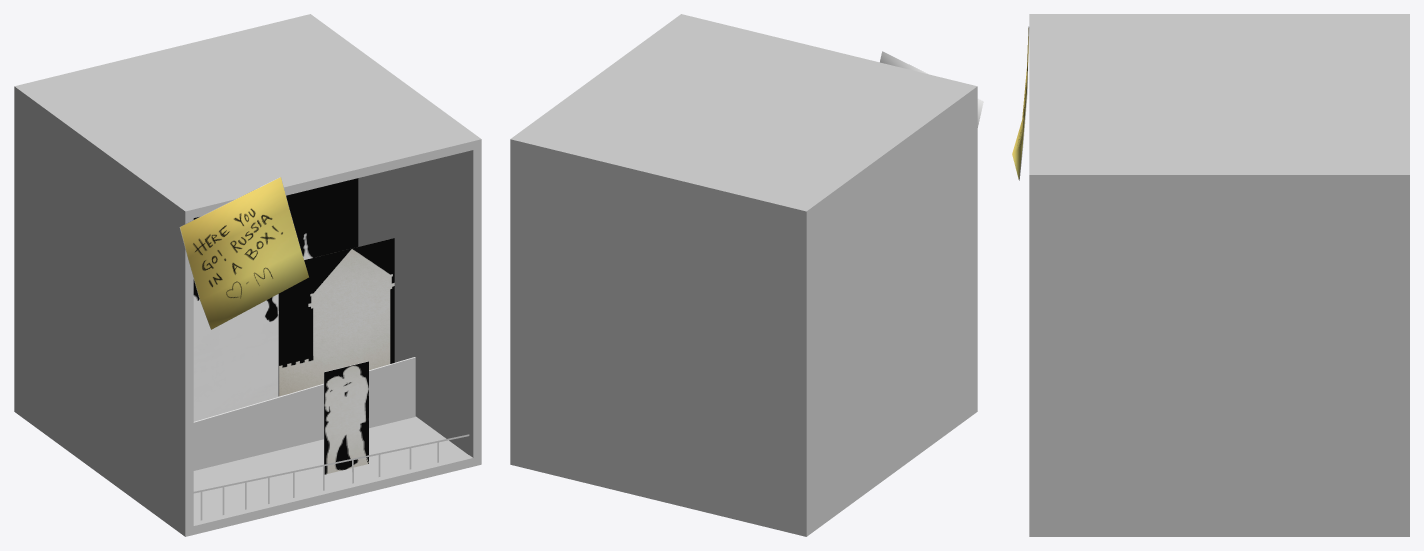
File: Storyevent 1.fbx
3 views of the same model, side by side, from view 1: azimuth 30°, elevation 25°; view 2: azimuth 150°, elevation 25°; view 3: azimuth 270°, elevation 25° (orthographic). The views are drawn at different scales.
Visible parts, largest first — view 1: Cube.056; view 2: Cube.056; view 3: Cube.056.
Part boxes in pixels (x1,y1,x2,y2): Cube.056: [14, 14, 481, 536]; Cube.056: [510, 14, 983, 536]; Cube.056: [1012, 14, 1409, 536].
Size of the model in its own units: 0.2165 by 0.2219 by 0.2308.
